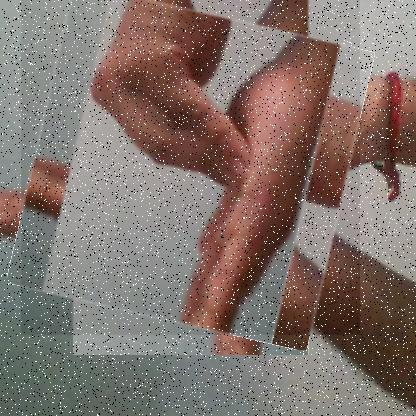Z: (20, 0, 360, 336)
